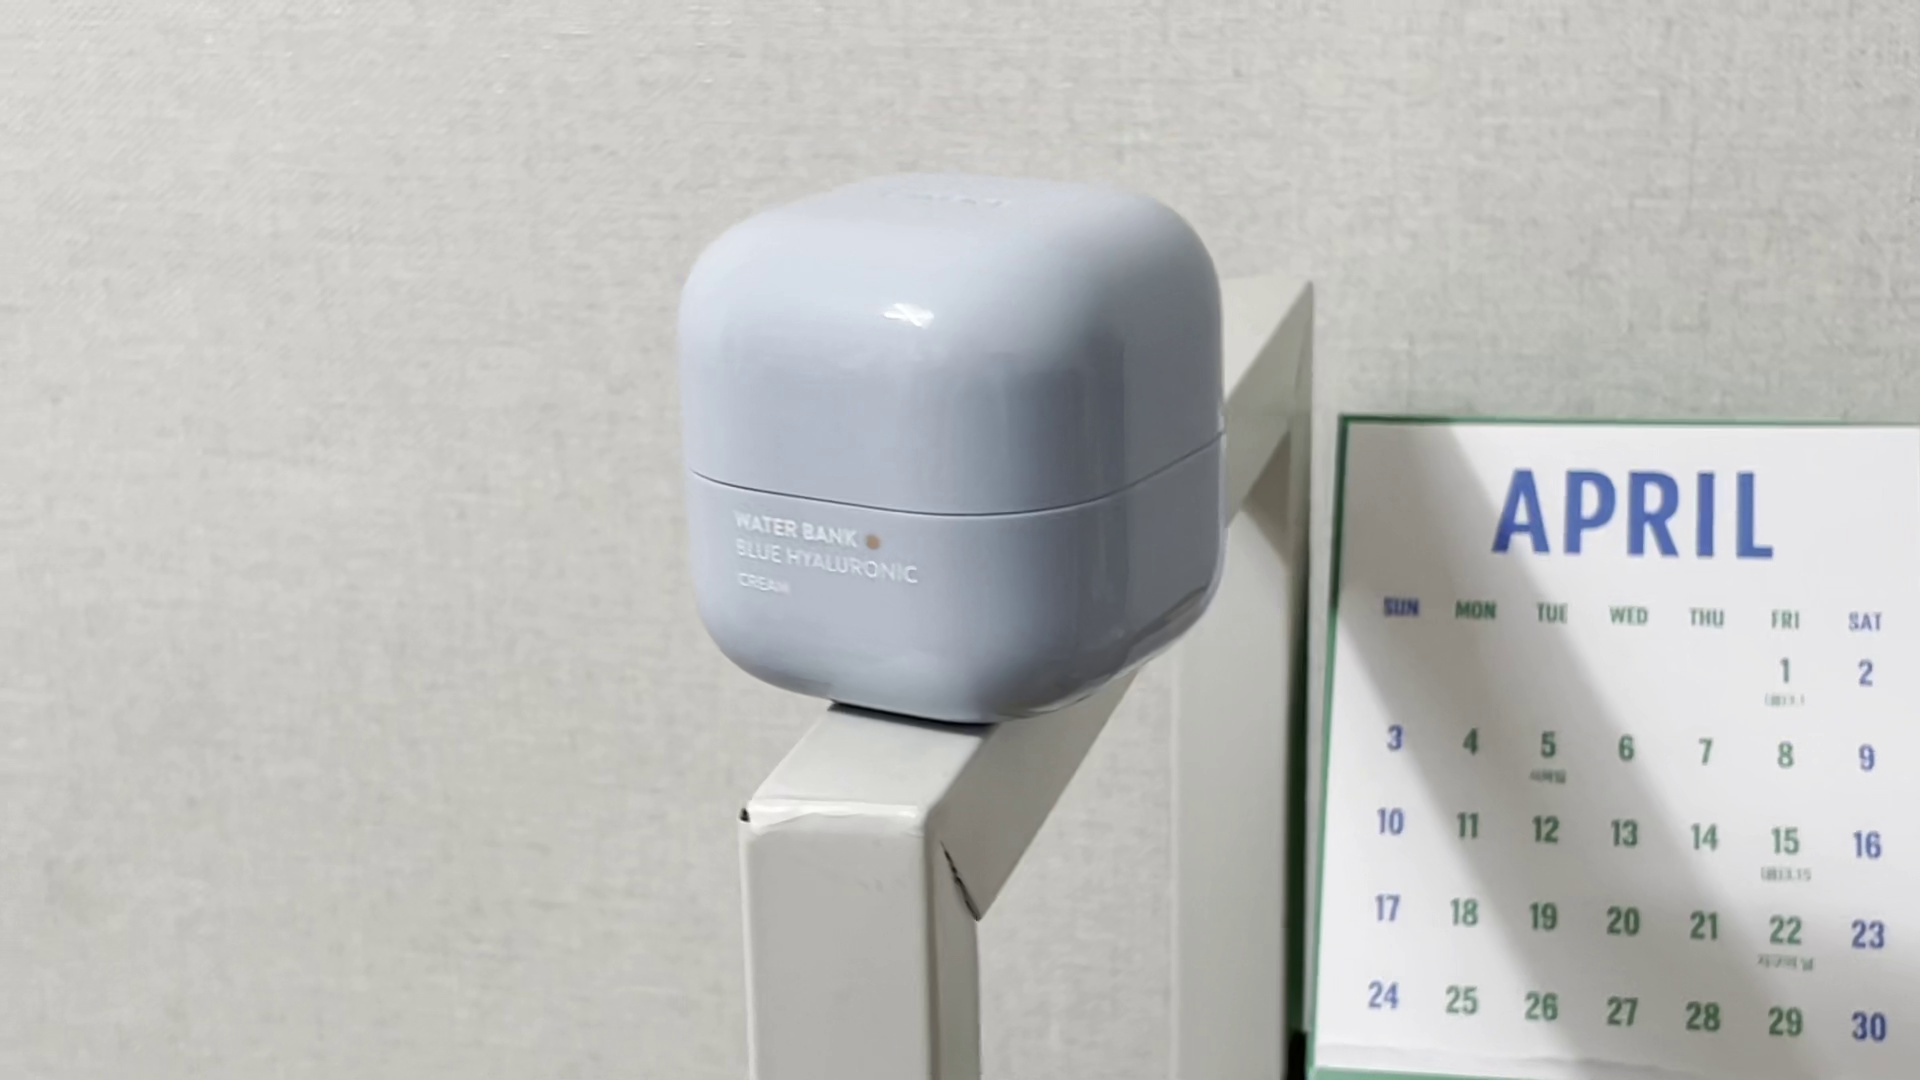cream: (669, 158, 1228, 725)
